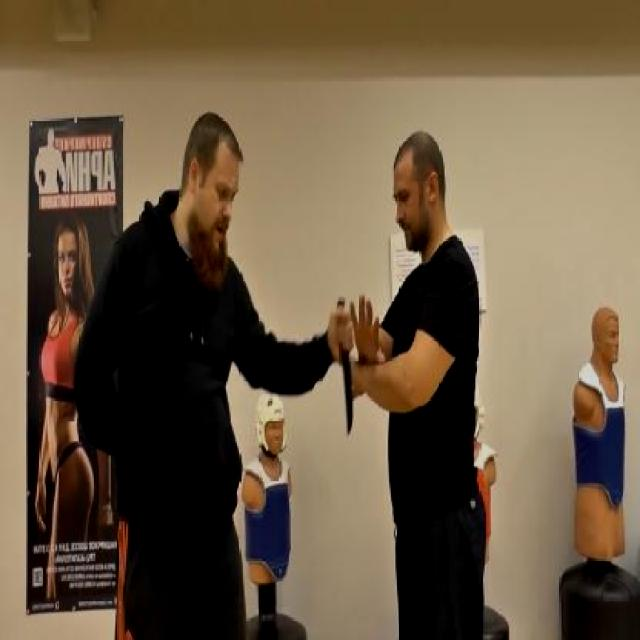knife: (332, 293, 357, 442)
